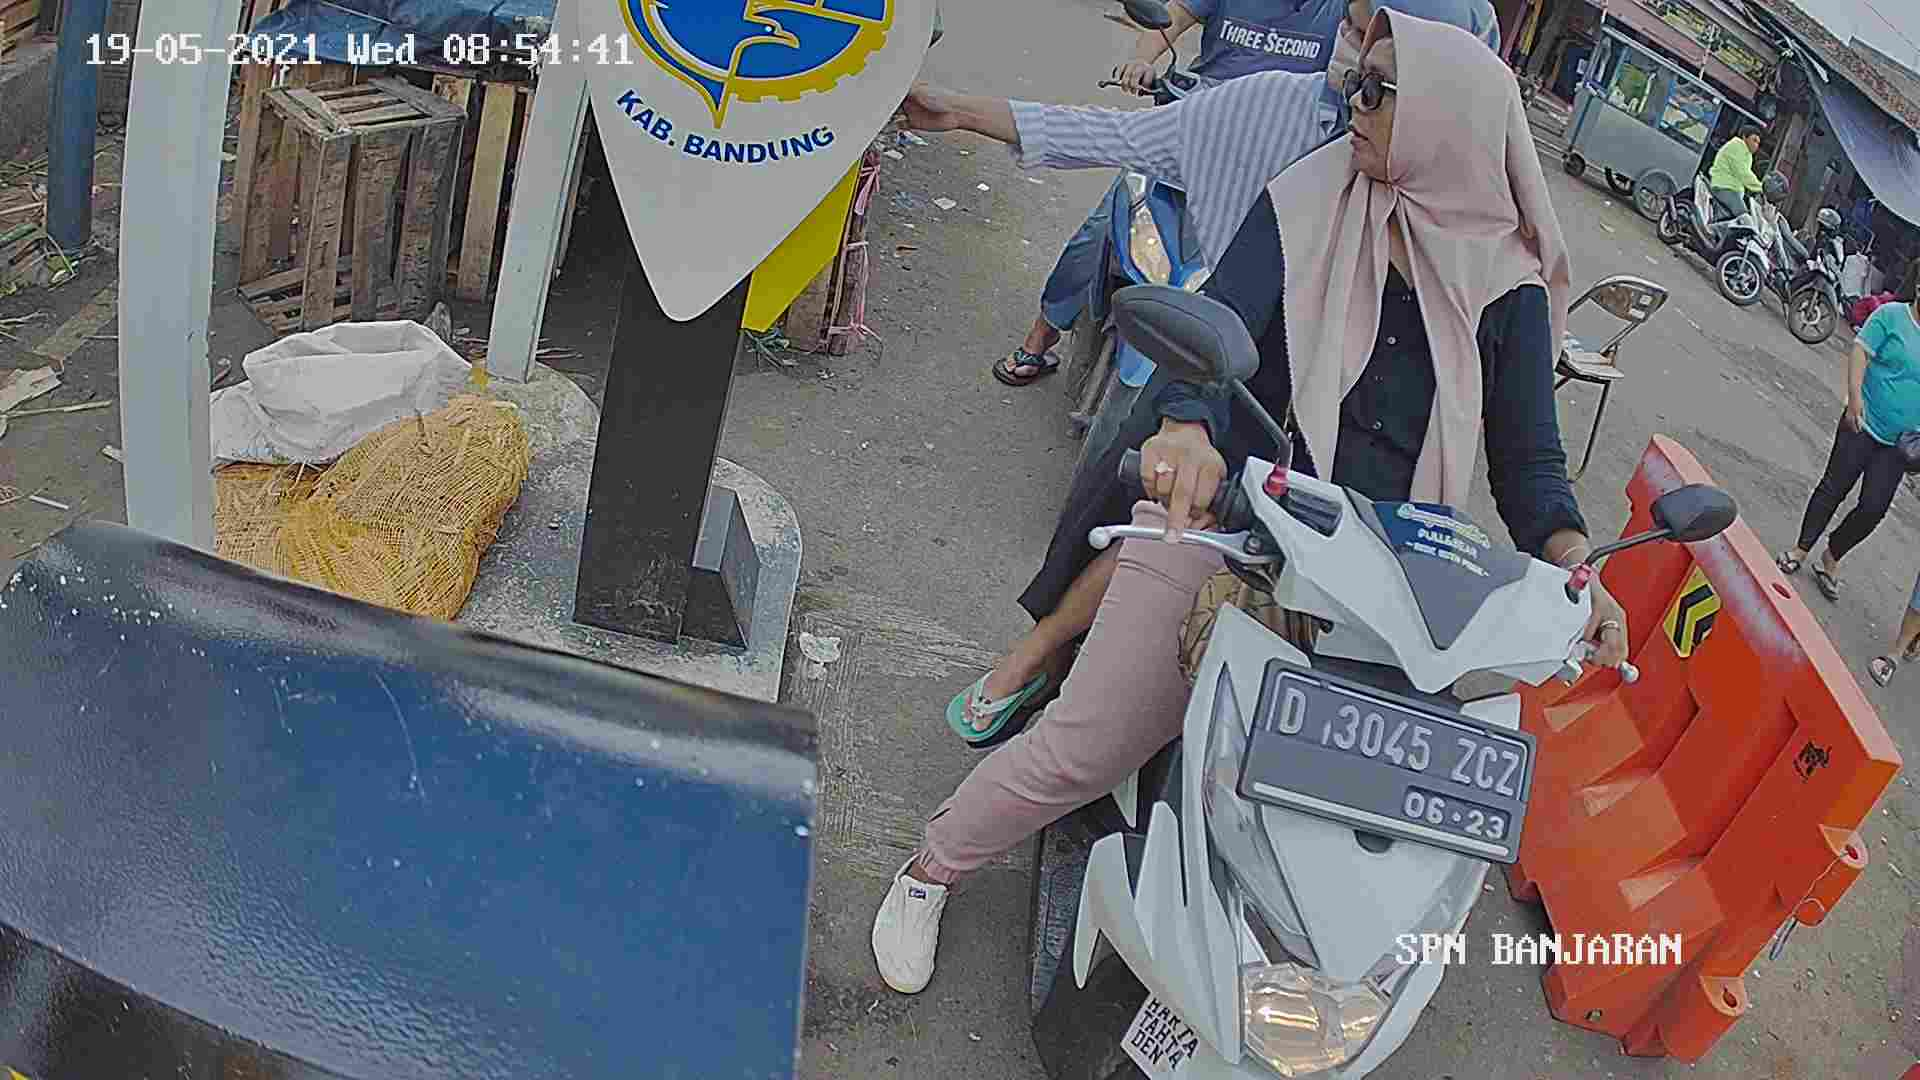motor: (1076, 444, 1545, 1080)
